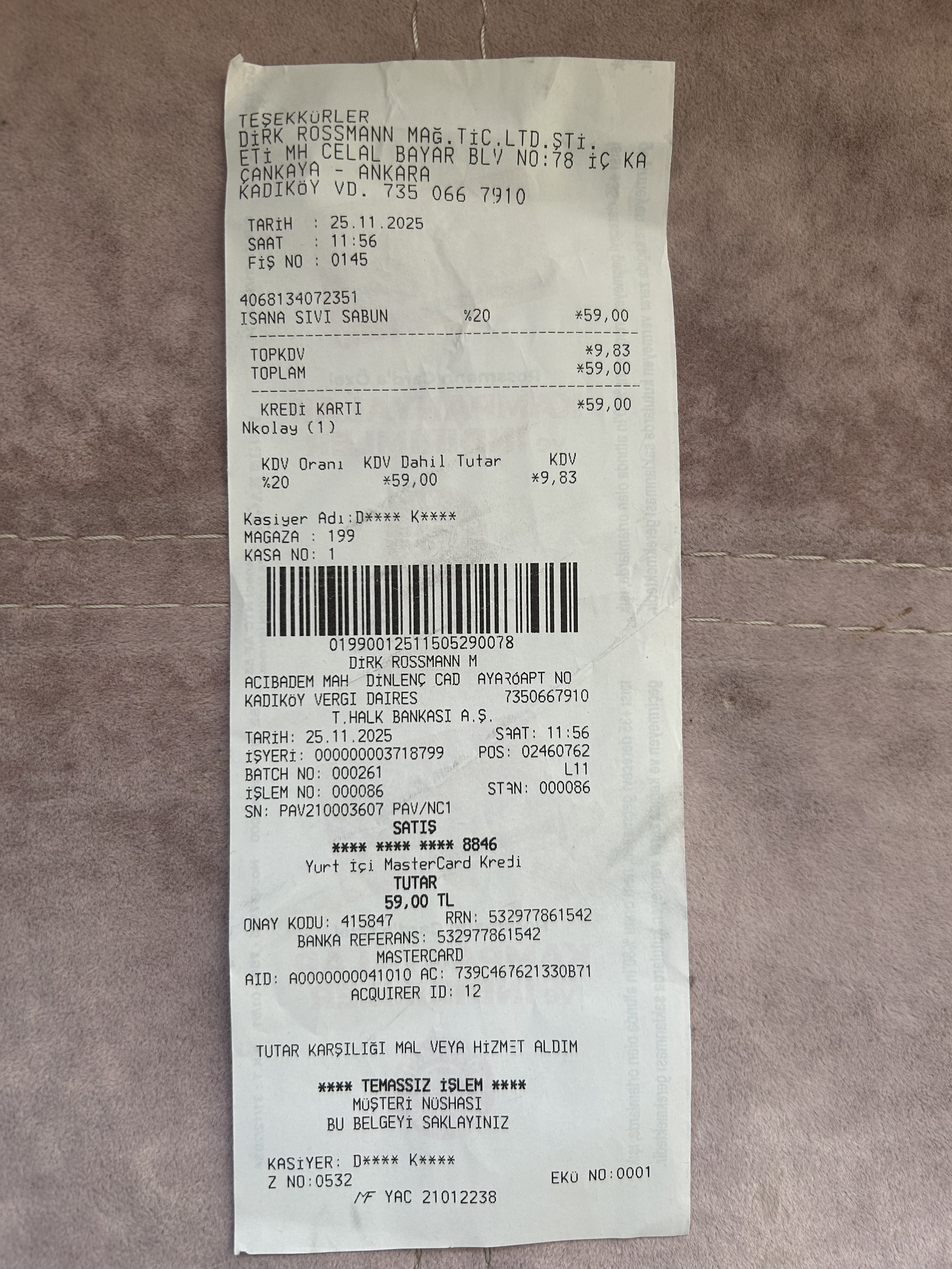date: (325, 210, 431, 234)
price: (367, 890, 461, 911)
workplace: (231, 122, 652, 185)
